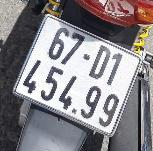1: (103, 50, 125, 87)
4: (19, 56, 46, 97), (54, 72, 81, 112)
5: (37, 64, 67, 104)
6: (44, 26, 71, 62)
7: (58, 30, 90, 67)
9: (76, 82, 106, 123), (95, 89, 123, 132)
D: (86, 43, 115, 82)
